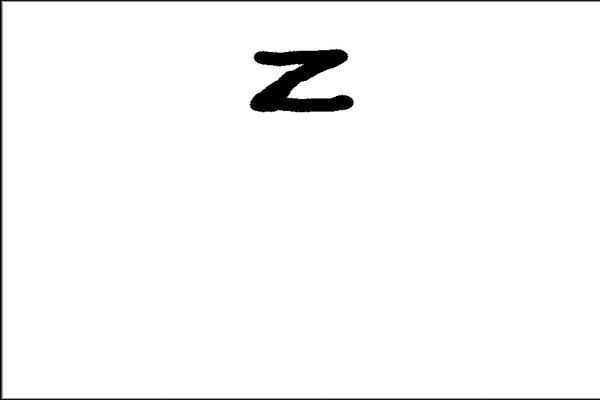Z: (245, 39, 362, 120)
